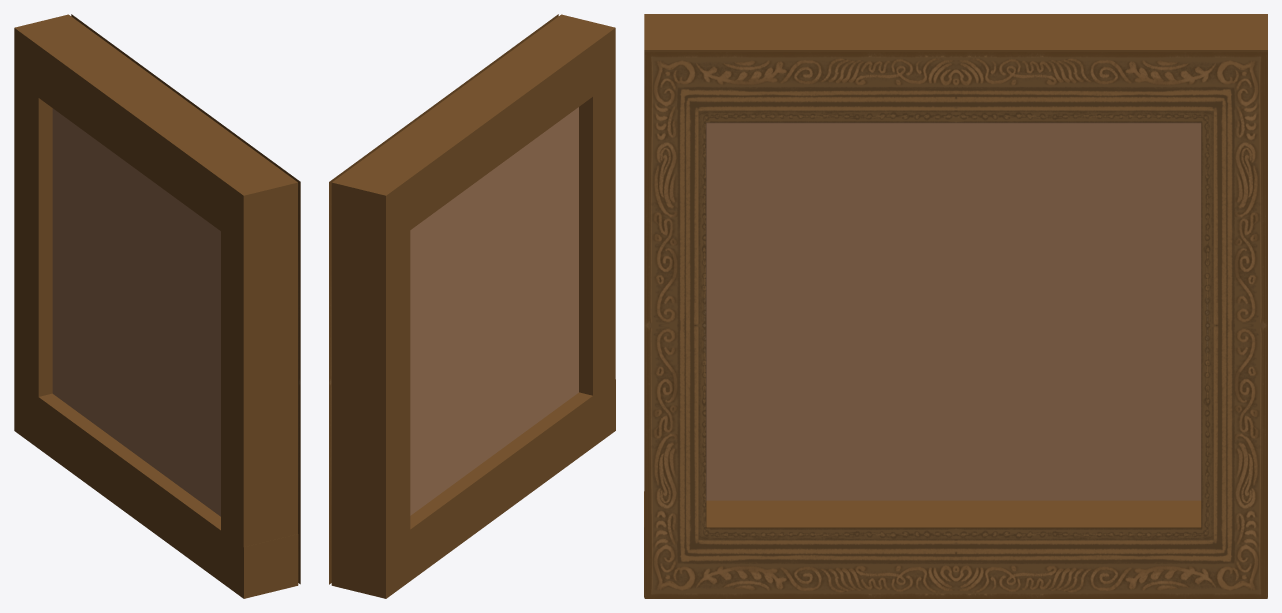
The model's file is Kein_Bild_4.glb.
3 views of the same model, side by side, from view 1: azimuth 30°, elevation 25°; view 2: azimuth 150°, elevation 25°; view 3: azimuth 270°, elevation 25° (orthographic). The views are drawn at different scales.
Visible parts, largest first — view 1: Bilderrahmen_Kein_Bild.006; view 2: Bilderrahmen_Kein_Bild.006; view 3: Bilderrahmen_Kein_Bild.006.
Part boxes in pixels (x1,y1,x2,y2): Bilderrahmen_Kein_Bild.006: [14, 14, 300, 598]; Bilderrahmen_Kein_Bild.006: [329, 14, 615, 598]; Bilderrahmen_Kein_Bild.006: [644, 14, 1267, 598].
Bounding box in the file's own units: 0.2556 × 1.72 × 1.78.
3 materials, 1 textured.
